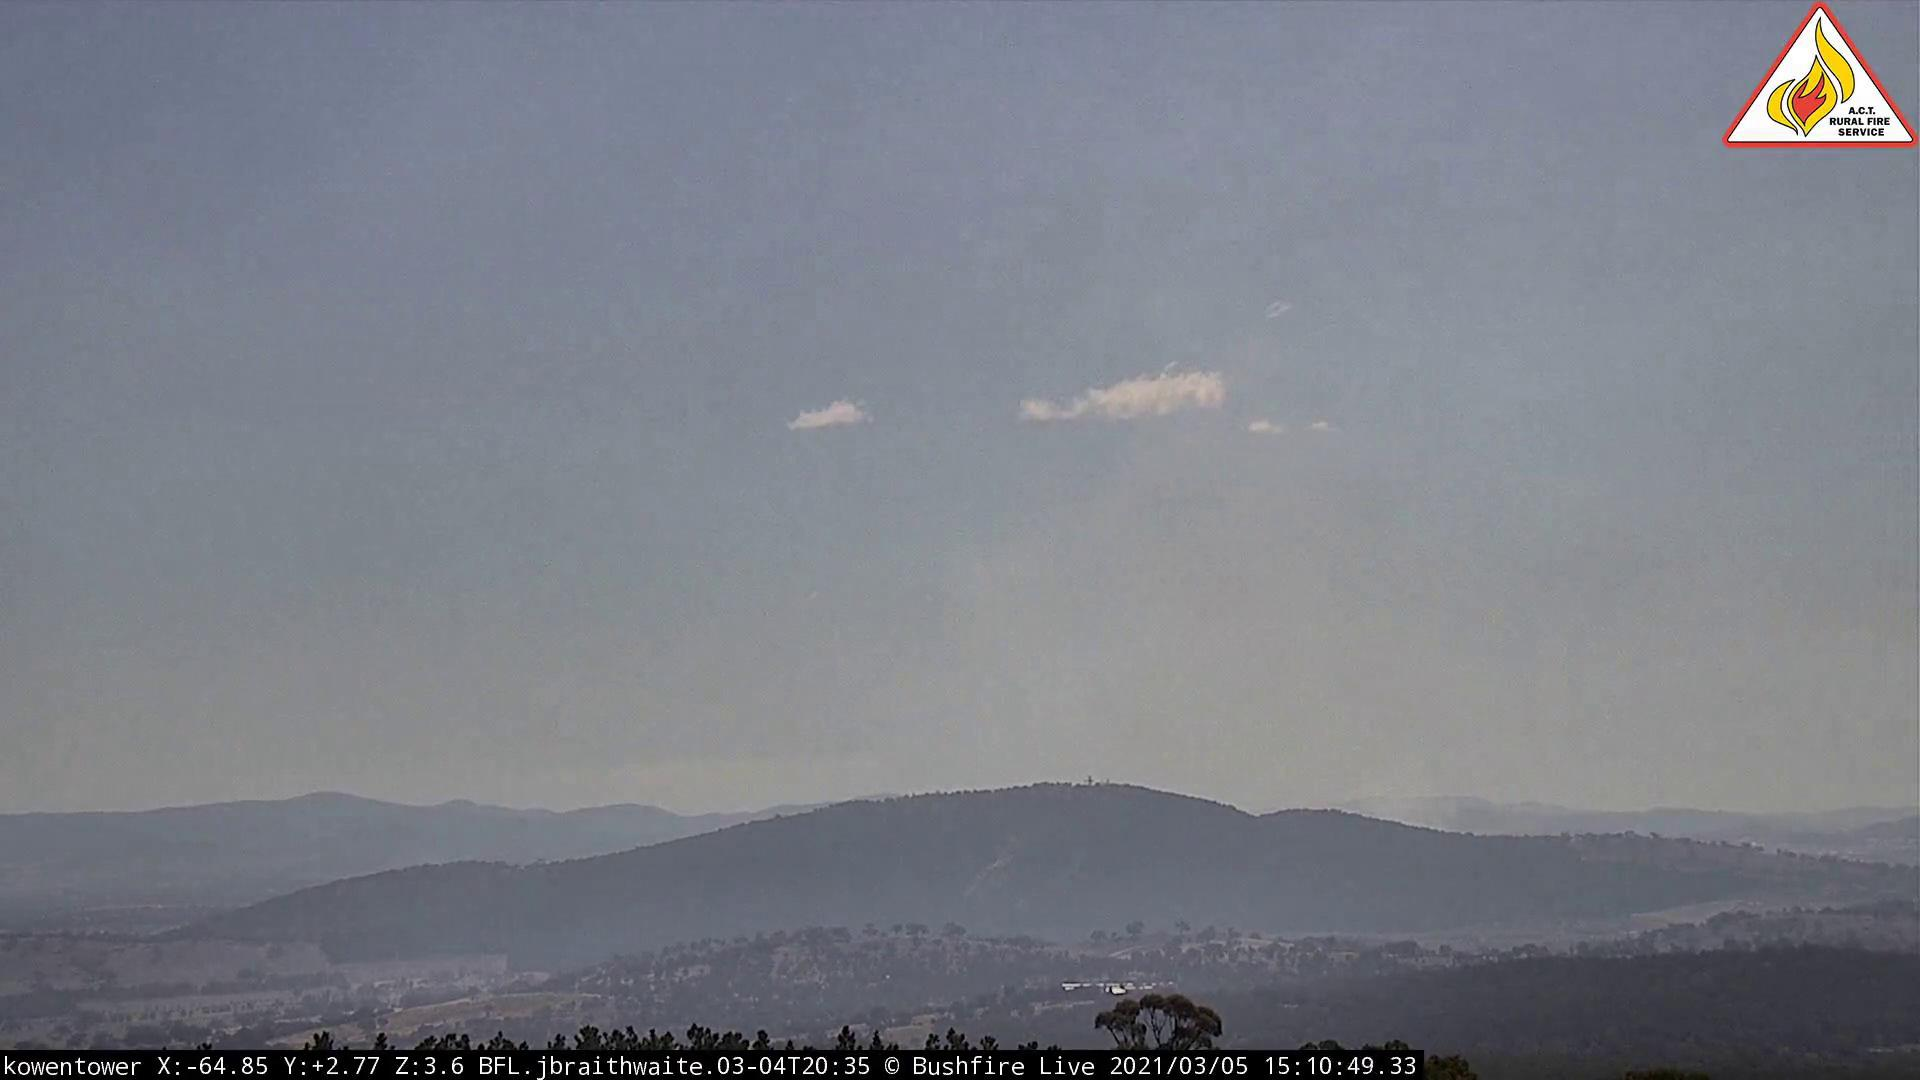Smoke: (829, 360, 1456, 839)
